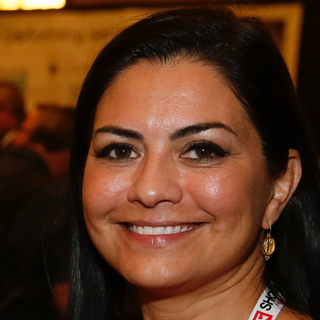eye: (175, 140, 228, 165), (95, 139, 142, 163)
